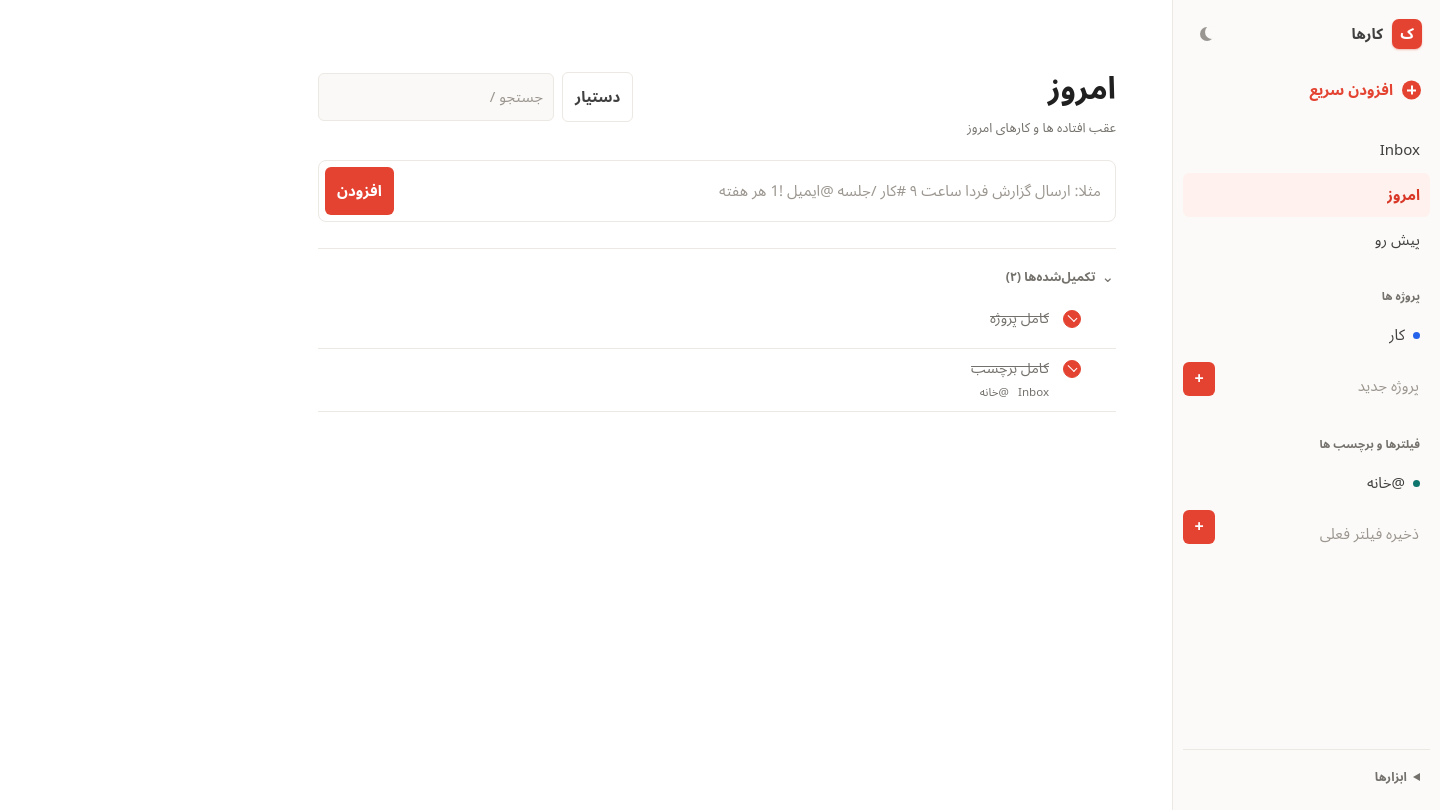
Test: App › shows project and tag completed tasks under their own separators
Click the button "کار".
click(1338, 335)  # box [1255, 319, 1420, 351]
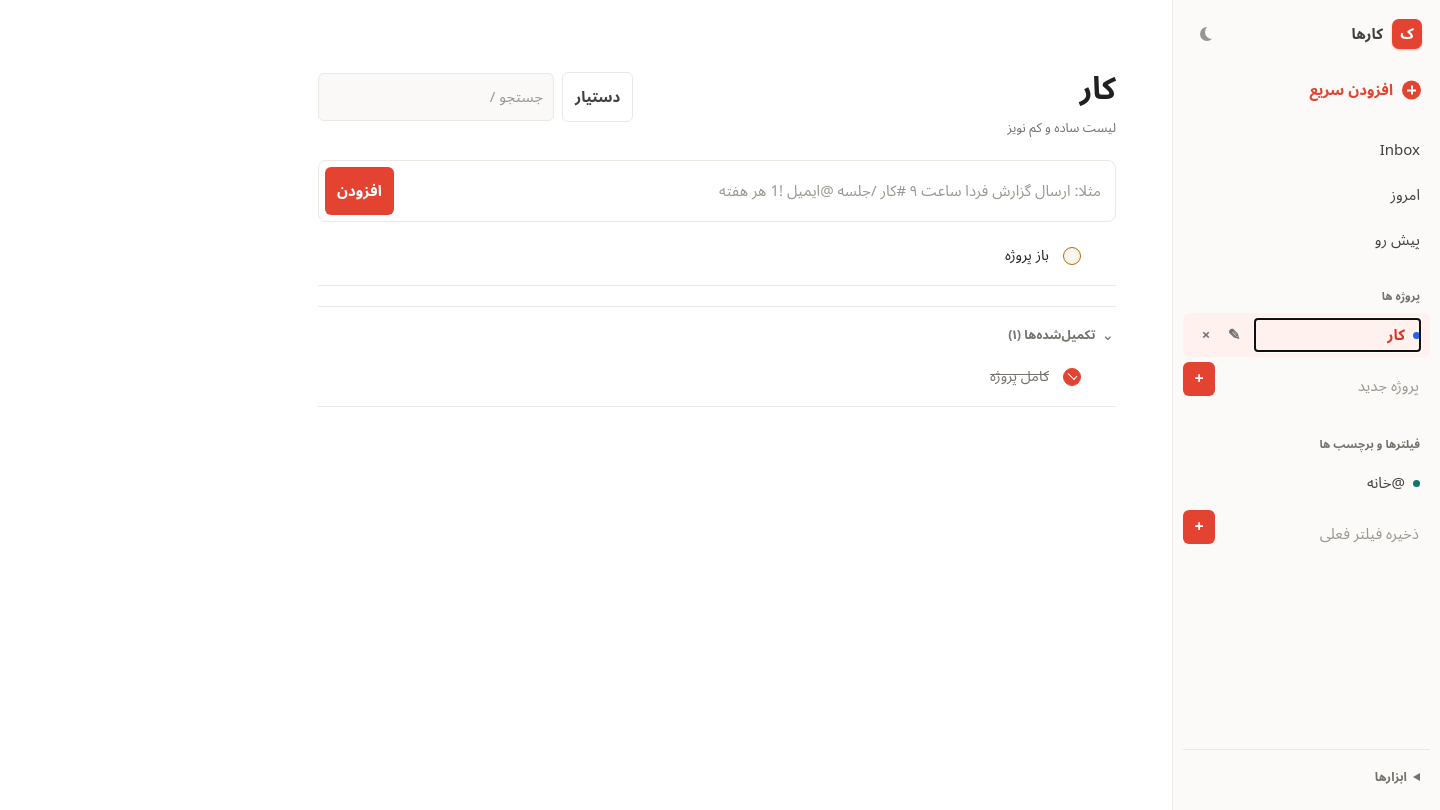
Expected: the text "کامل پروژه" is shown, [990, 366, 1049, 388]
Result: the text "تکمیل‌شده‌ها (۱)" is shown at [1008, 322, 1095, 348]
Click the button "⌄ تکمیل‌شده‌ها (۱)".
click(1056, 335)  # box [318, 306, 1116, 356]
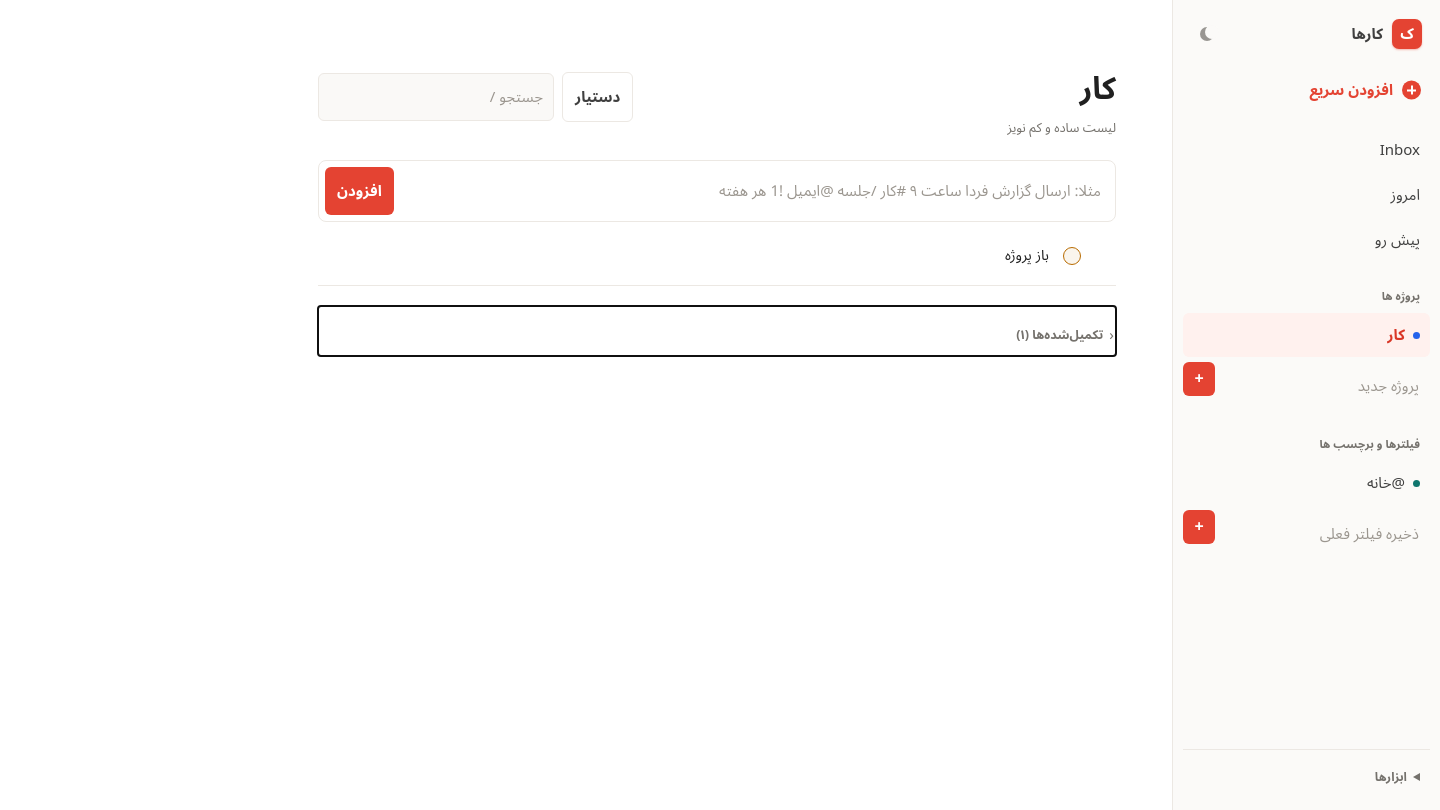
Click the button "@خانه".
click(1306, 483)  # box [1183, 461, 1430, 505]
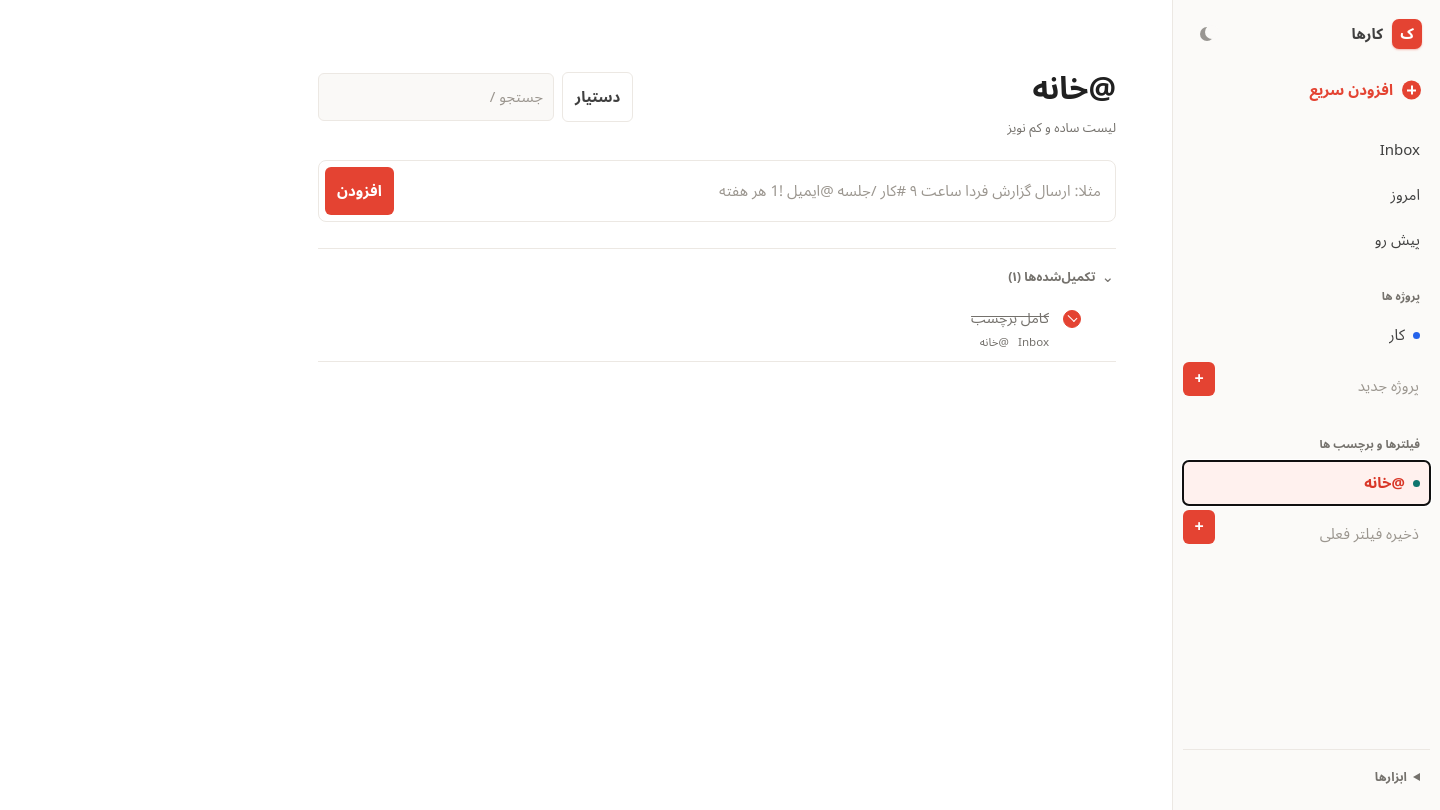
Result: the text "کامل برچسب" is shown at [971, 308, 1049, 330]
